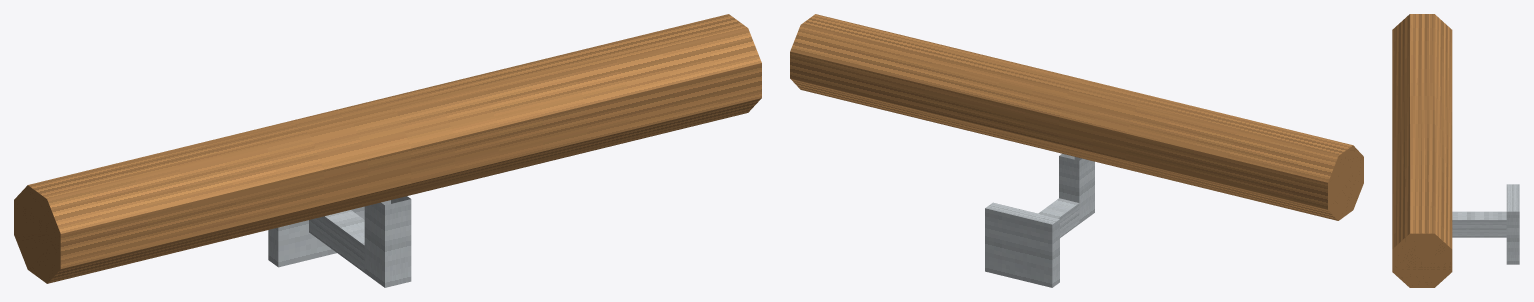
The model's file is level.obj.
The picture shows the model from 3 angles, left to right: view 1: azimuth 30°, elevation 25°; view 2: azimuth 150°, elevation 25°; view 3: azimuth 270°, elevation 25°; orthographic projection. The views are drawn at different scales.
Parts seen in each view (by area): view 1: handrail_wall_oak_round_level; view 2: handrail_wall_oak_round_level; view 3: handrail_wall_oak_round_level.
Part boxes in pixels (bbox=[...]): handrail_wall_oak_round_level: bbox=[14, 14, 761, 287]; handrail_wall_oak_round_level: bbox=[790, 14, 1363, 287]; handrail_wall_oak_round_level: bbox=[1392, 14, 1519, 287].
Size of the model in its own units: 1 by 0.2702 by 0.2452.
